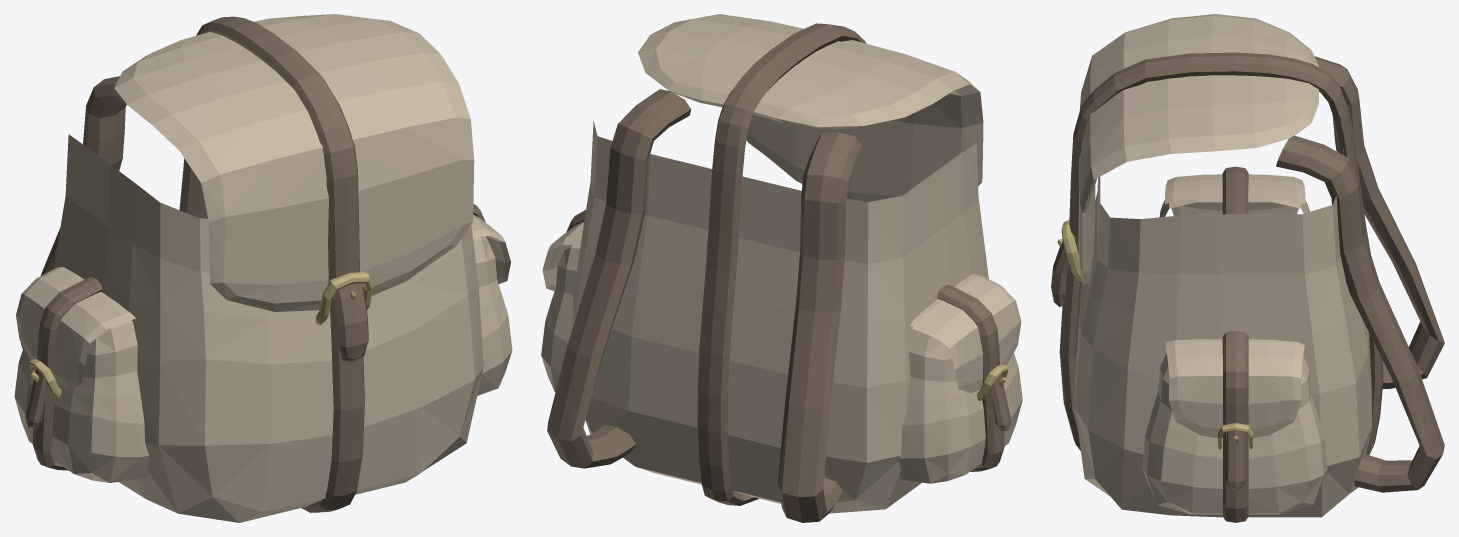
Rendered from pack.meshopt.glb.
3 renders of one model, left to right at view 1: azimuth 30°, elevation 25°; view 2: azimuth 150°, elevation 25°; view 3: azimuth 270°, elevation 25°, orthographic. The views are drawn at different scales.
Parts seen in each view (by area): view 1: pack, flap; view 2: pack, flap; view 3: pack, flap.
Boxes of the visible parts, left/top/right/bottom form: pack: left=14, top=18, right=512, bottom=522; flap: left=114, top=14, right=474, bottom=362; pack: left=541, top=89, right=1022, bottom=522; flap: left=638, top=14, right=983, bottom=201; pack: left=1059, top=56, right=1444, bottom=522; flap: left=1051, top=14, right=1319, bottom=306.
Bounding box in the file's own units: 1.12 × 1 × 0.846.
